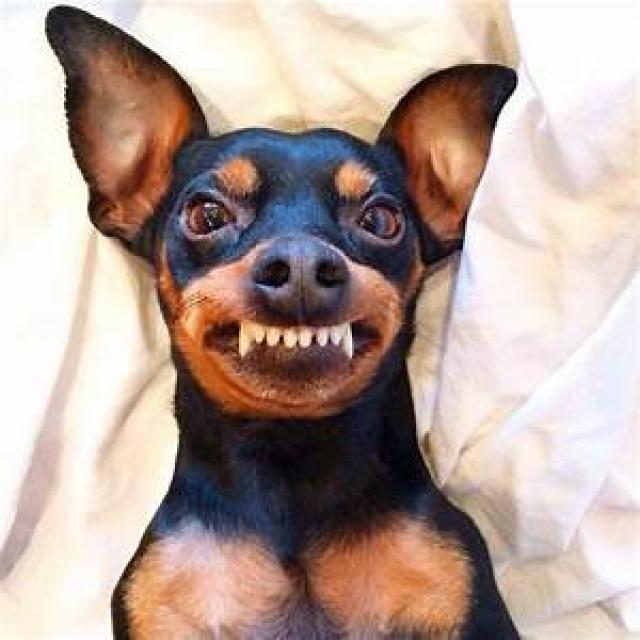dog: (49, 10, 520, 639)
